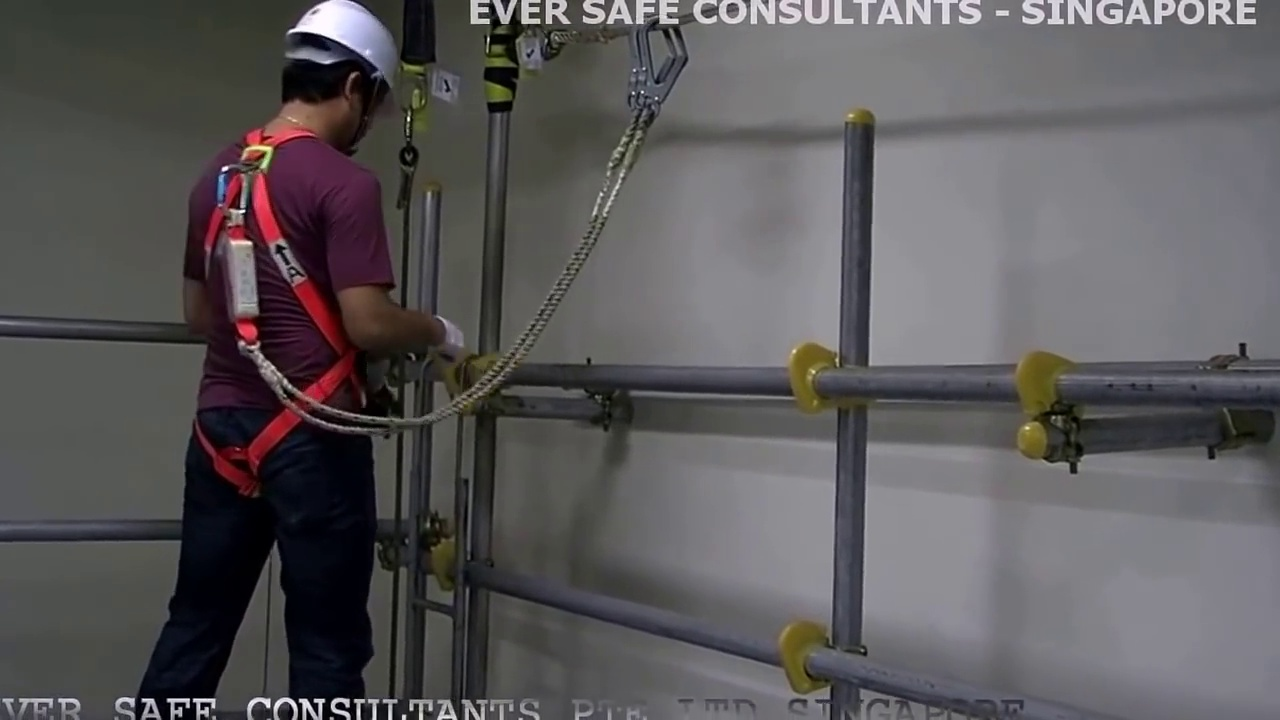harness: (201, 148, 326, 467)
helmet: (288, 2, 401, 80)
hook: (629, 12, 690, 108)
leash: (438, 131, 663, 414)
